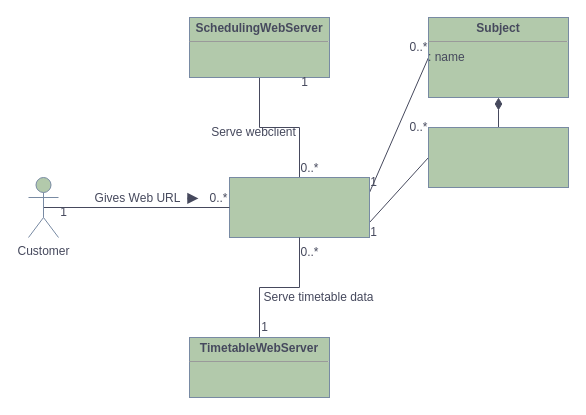
The diagram is 586 pixels wide and 415 high, and some of its shapes have lost their labels. Here are the shapes that lost their labels. From the top down, the box of each, then its label:
(428, 126, 568, 188): Course
(228, 176, 370, 238): Browser
